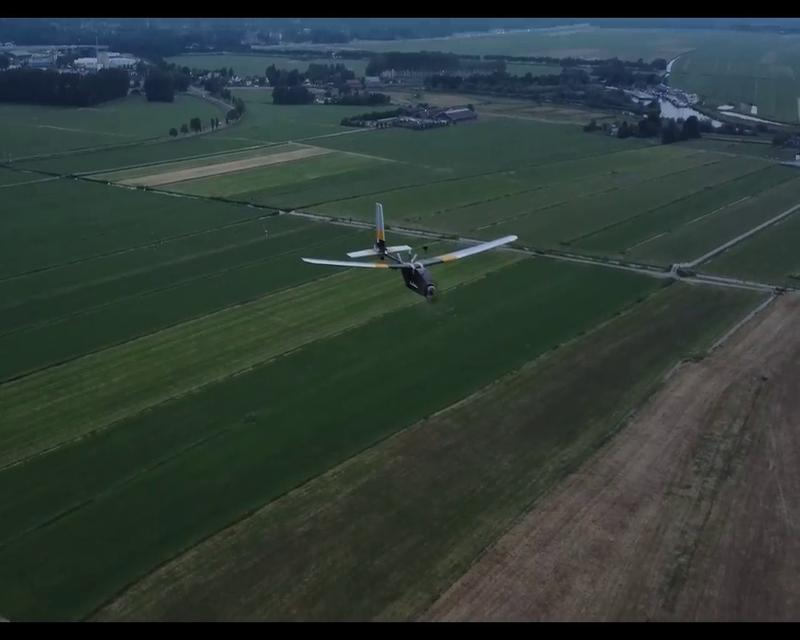UAV: (299, 200, 519, 301)
